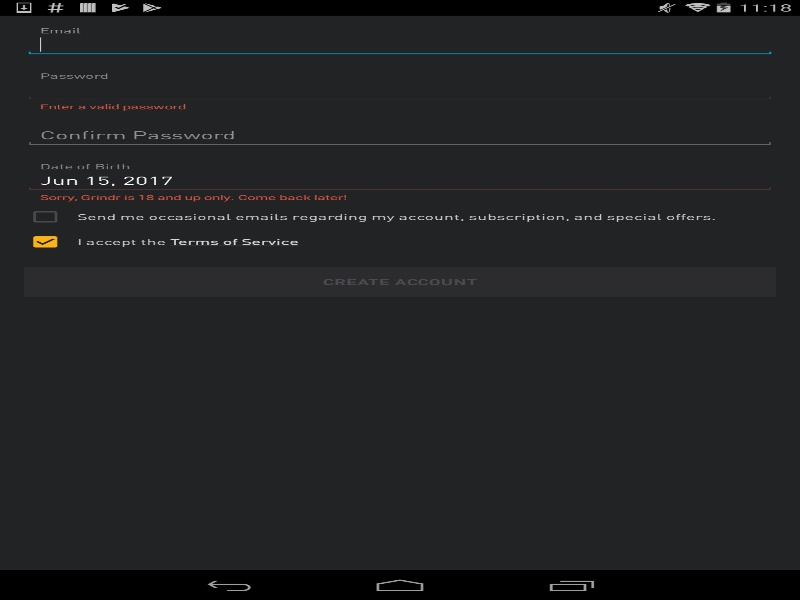Button: (24, 266, 776, 296)
Input: (24, 123, 776, 147), (24, 33, 776, 56), (24, 78, 776, 101), (24, 169, 776, 192)
